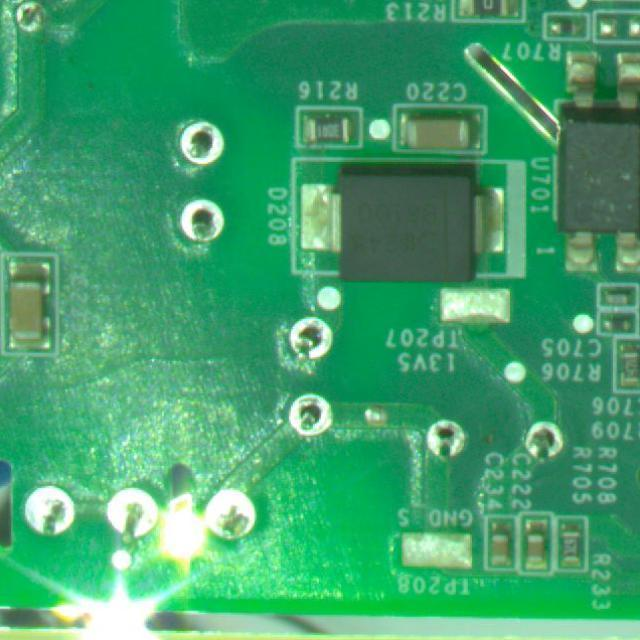Insufficient solder: (168, 182, 229, 251), (158, 114, 228, 172), (517, 408, 578, 473), (411, 410, 472, 464), (286, 385, 342, 443), (282, 312, 338, 370)
